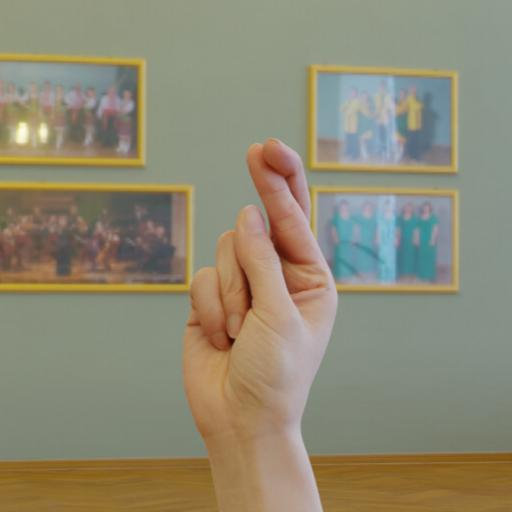R: (168, 128, 350, 446)
